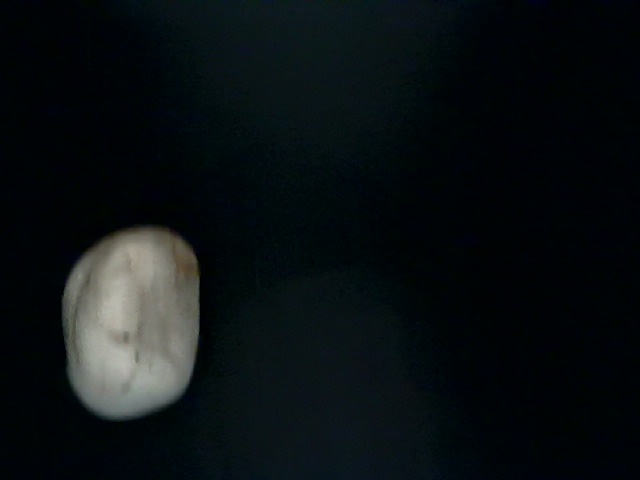QTLJ: (369, 394, 626, 480)
